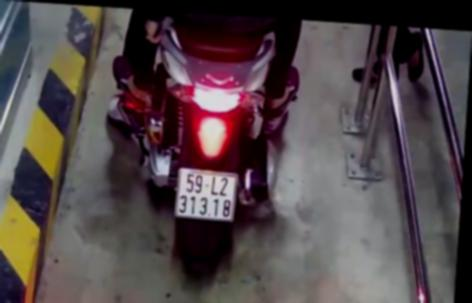License_Plate: (168, 158, 243, 230)
